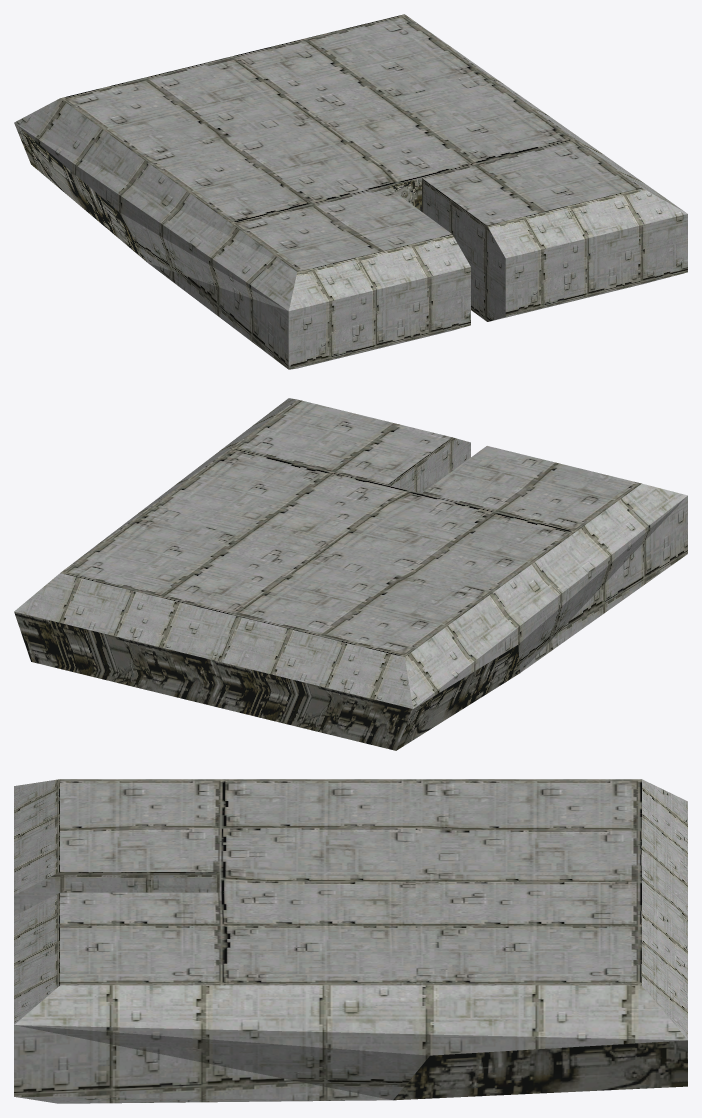
Rendered from ins_all_def_turret_sm_s01_turret_l2.fbx.
The picture shows the model from 3 angles, top to bottom: view 1: azimuth 30°, elevation 25°; view 2: azimuth 150°, elevation 25°; view 3: azimuth 270°, elevation 25°; orthographic projection. The views are drawn at different scales.
Parts seen in each view (by area): view 1: mesh_node; view 2: mesh_node; view 3: mesh_node.
Boxes of the visible parts, left/top/right/bottom form: mesh_node: left=14, top=14, right=687, bottom=369; mesh_node: left=14, top=398, right=687, bottom=750; mesh_node: left=14, top=779, right=687, bottom=1103.
Bounding box in the file's own units: 1.37 × 0.3165 × 1.64.
